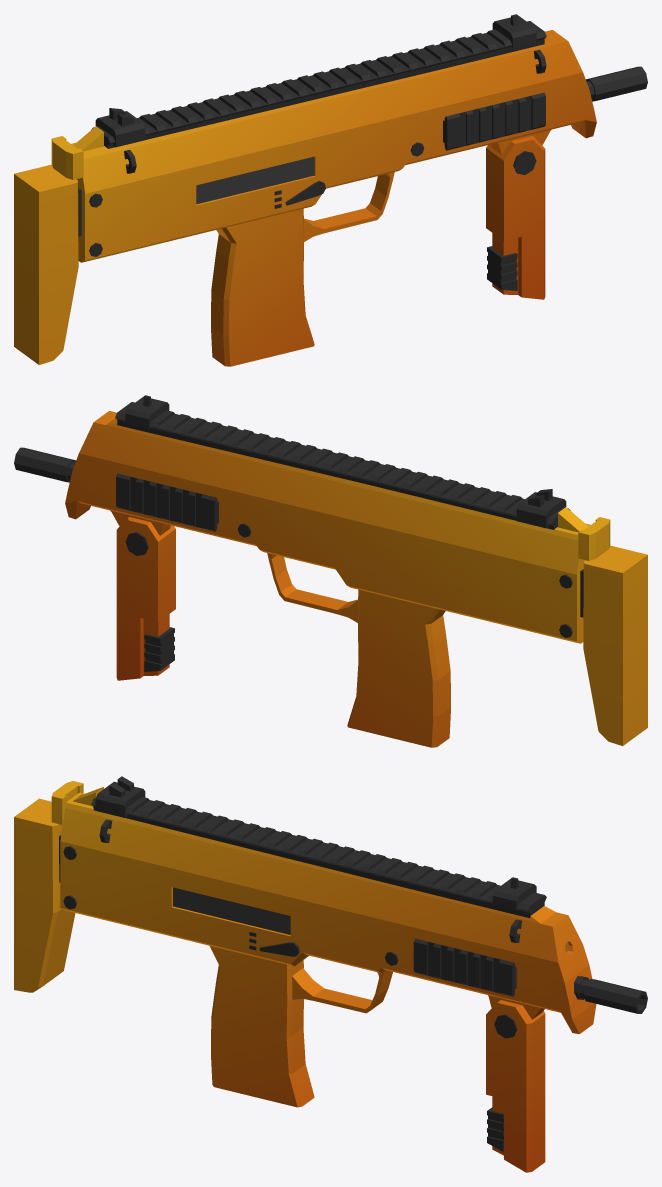
File: SMG3_04.fbx
3 views of the same model, one above another, from view 1: azimuth 30°, elevation 25°; view 2: azimuth 150°, elevation 25°; view 3: azimuth 330°, elevation 25° (orthographic).
Visible parts, largest first — view 1: SMG3_04; view 2: SMG3_04; view 3: SMG3_04.
Boxes of the visible parts, left/top/right/bottom form: SMG3_04: left=14, top=14, right=647, bottom=366; SMG3_04: left=14, top=395, right=647, bottom=747; SMG3_04: left=14, top=776, right=647, bottom=1172.
Bounding box in the file's own units: 0.4641 × 0.204 × 0.044.
